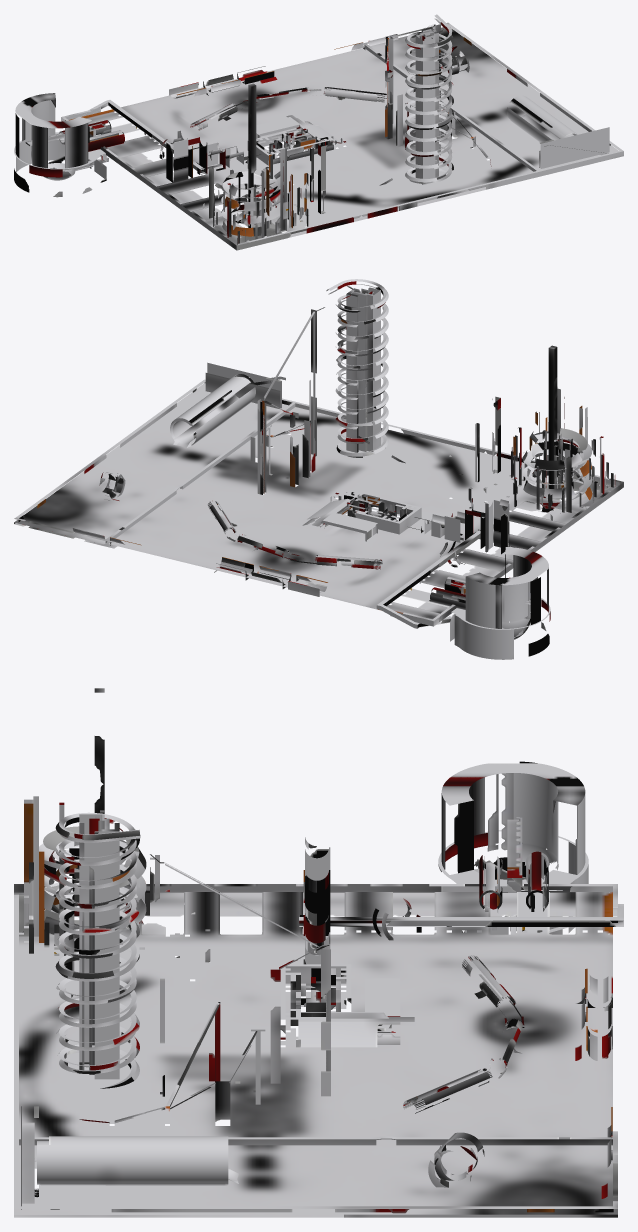
File: Testmap.FBX
The picture shows the model from 3 angles, top to bottom: view 1: azimuth 30°, elevation 25°; view 2: azimuth 150°, elevation 25°; view 3: azimuth 270°, elevation 25°; orthographic projection. The views are drawn at different scales.
Visible parts, largest first — view 1: Box001; view 2: Box001; view 3: Box001.
Boxes of the visible parts, x1,y1,x2,y2 form: Box001: (14, 14, 623, 250); Box001: (14, 279, 623, 659); Box001: (14, 688, 623, 1217).
Bounding box in the file's own units: 23755 × 8800 × 15906.
